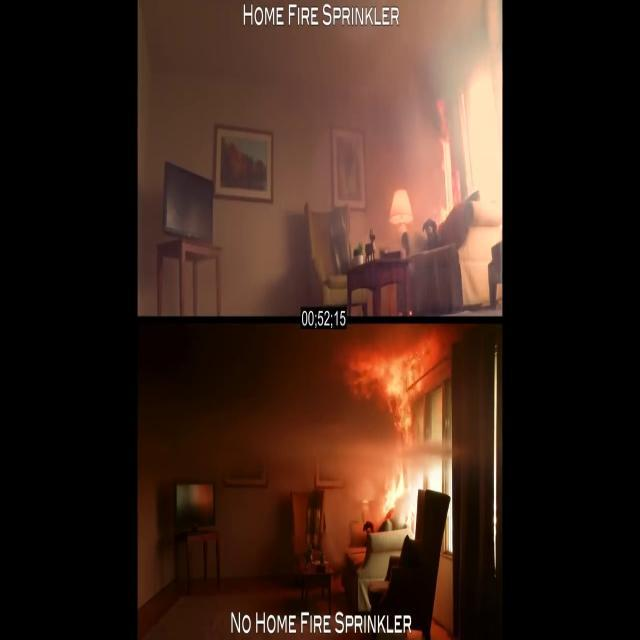Fire: (349, 344, 440, 540), (437, 130, 457, 217)
